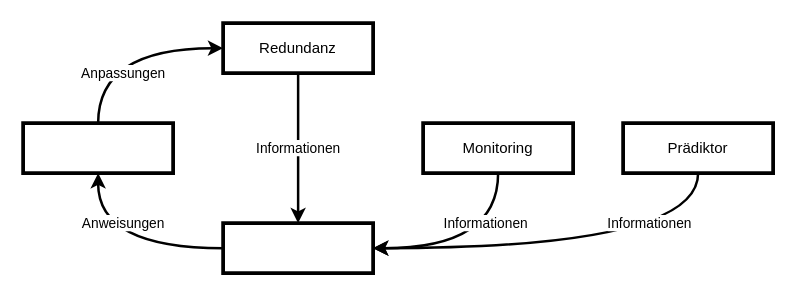
Image size: 796x296. Some labels were removed from this diagram. The shapes that lost their labels are listed below. From the top down, each one's centre as x and y in pixels, then its label:
At (97,147): "Aktuator".
At (297,247): "Kontrolleinheit".
